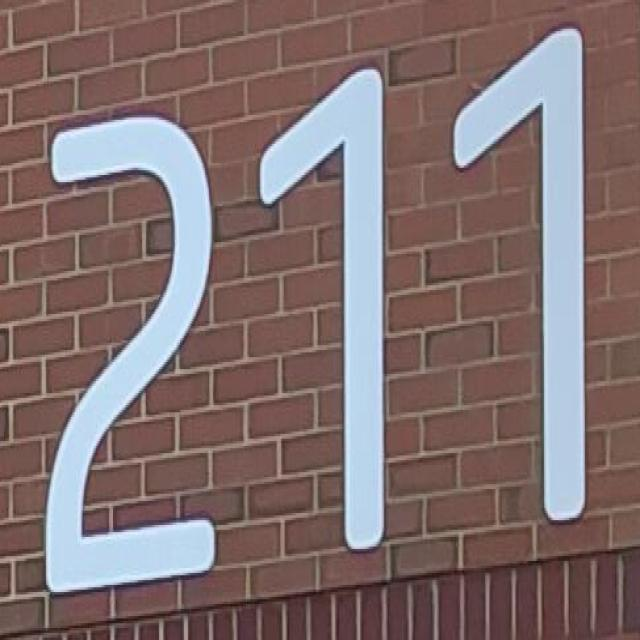character: (42, 106, 220, 600), (448, 22, 594, 528), (255, 60, 394, 557)
